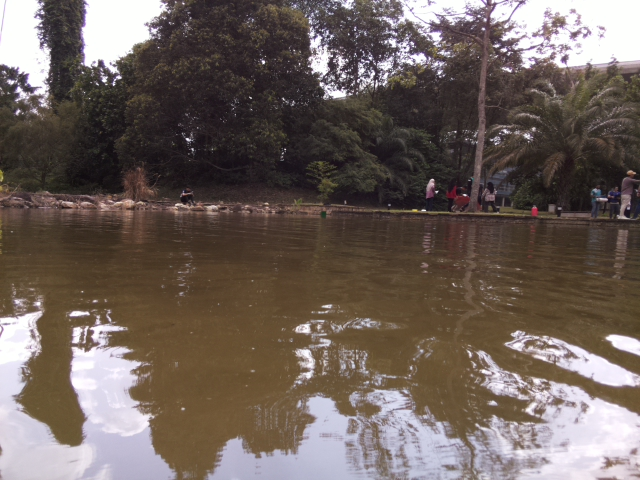obstacle: (320, 210, 326, 216)
